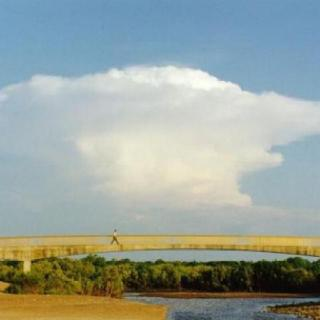Cumulonimbus: (0, 56, 320, 234)
